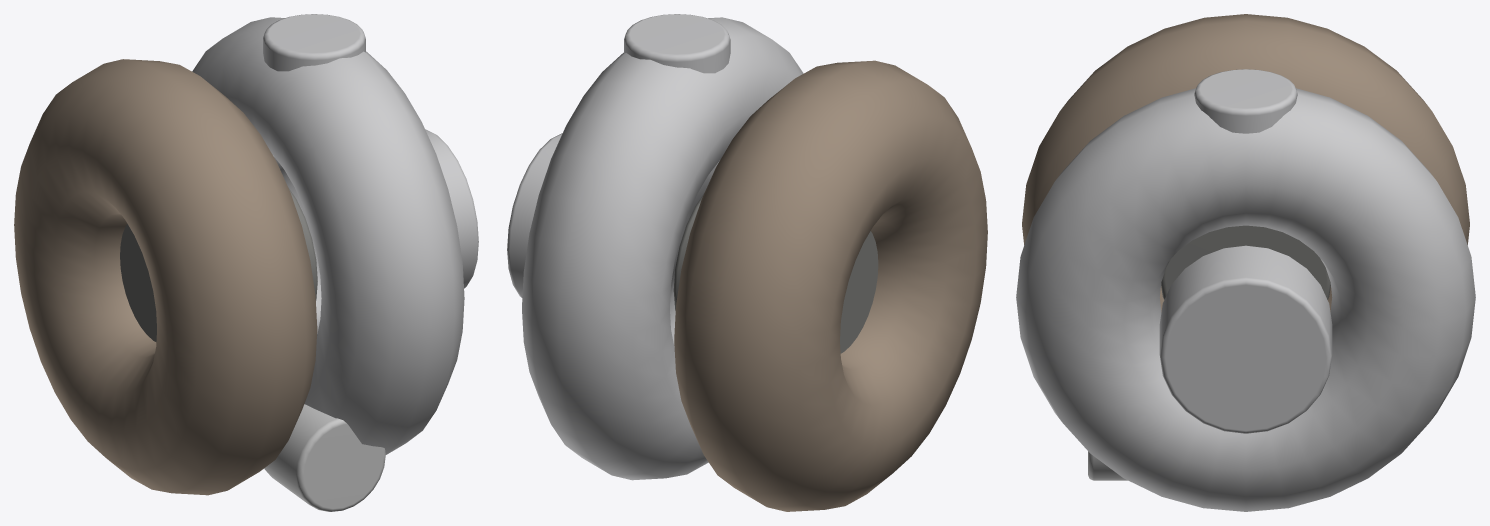
File: Turbocharger.fbx
The picture shows the model from 3 angles, left to right: view 1: azimuth 30°, elevation 25°; view 2: azimuth 150°, elevation 25°; view 3: azimuth 270°, elevation 25°; orthographic projection. The views are drawn at different scales.
Parts seen in each view (by area): view 1: Turbocharger_LOD0; view 2: Turbocharger_LOD0; view 3: Turbocharger_LOD0.
Boxes of the visible parts, box(x1,y1,x2,y2) form: Turbocharger_LOD0: box(14, 14, 478, 511); Turbocharger_LOD0: box(507, 14, 987, 511); Turbocharger_LOD0: box(1016, 14, 1475, 511).
Size of what is drawn, in the model's own units: 0.138 by 0.16 by 0.16.
